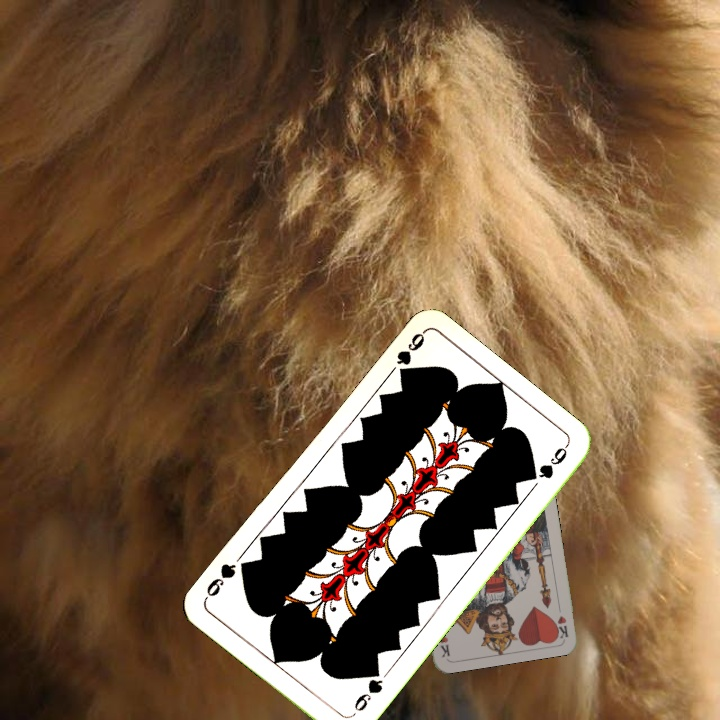G9: (350, 664, 386, 714), (392, 328, 428, 378)
HK: (551, 598, 571, 640)
